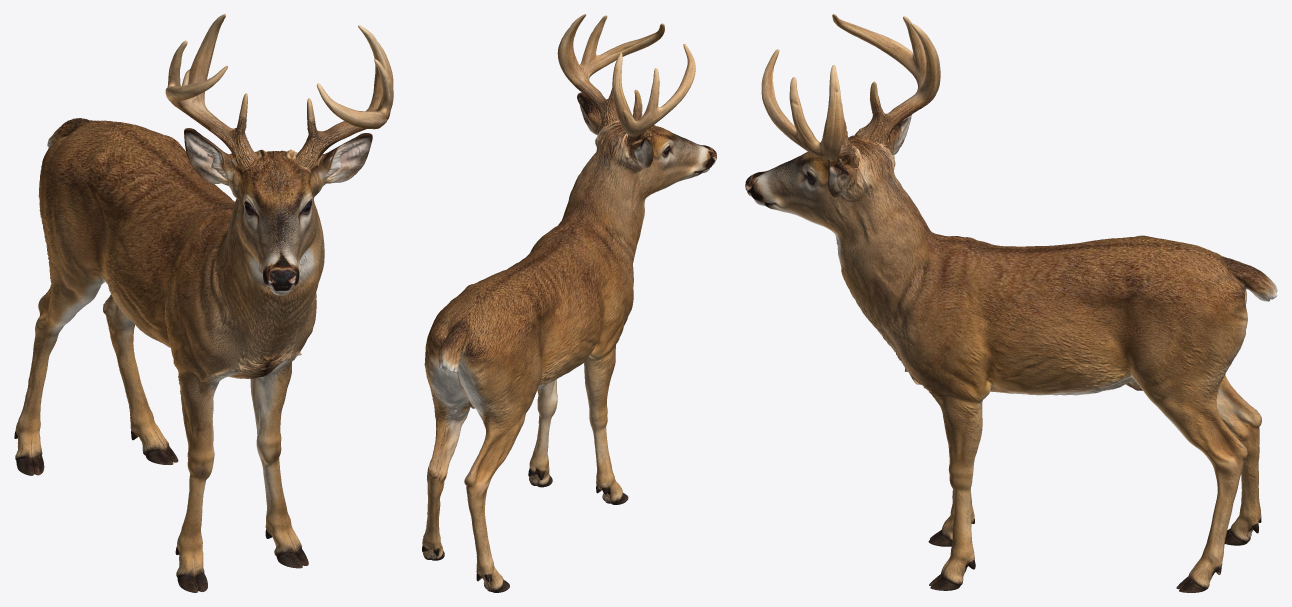
File: deer.meshopt.glb
The picture shows the model from 3 angles, left to right: view 1: azimuth 30°, elevation 25°; view 2: azimuth 150°, elevation 25°; view 3: azimuth 270°, elevation 25°; orthographic projection. The views are drawn at different scales.
Parts seen in each view (by area): view 1: deer; view 2: deer; view 3: deer.
Part boxes in pixels (x1,y1,x2,y2): deer: [14, 14, 393, 592]; deer: [422, 14, 716, 592]; deer: [745, 14, 1277, 592].
Bounding box in the file's own units: 0.5911 × 1.7 × 1.56.
1 material, 1 textured.
